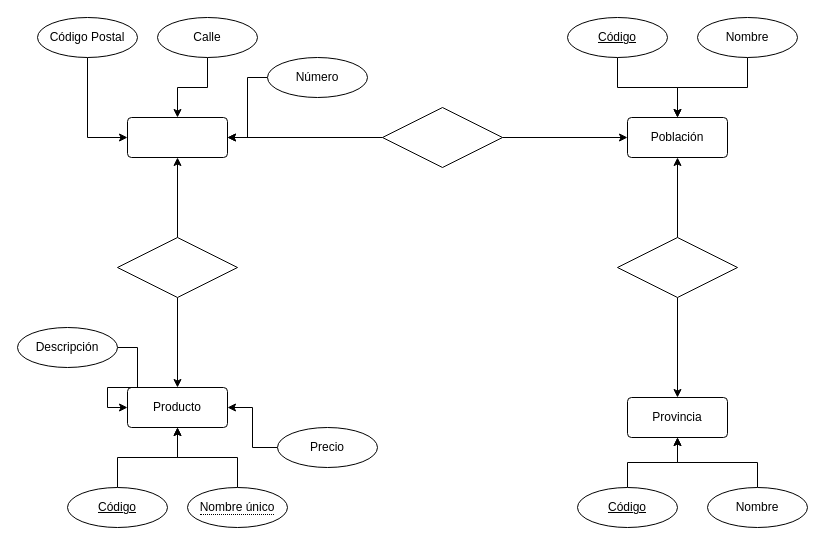
The diagram is 825 pixels wide and 545 high, and some of its shapes have lost their labels. Each missing label, with the centre of its shape:
Está en: (x=442, y=137)
Local: (x=177, y=137)
Pertenece: (x=677, y=267)
Vende: (x=177, y=267)
